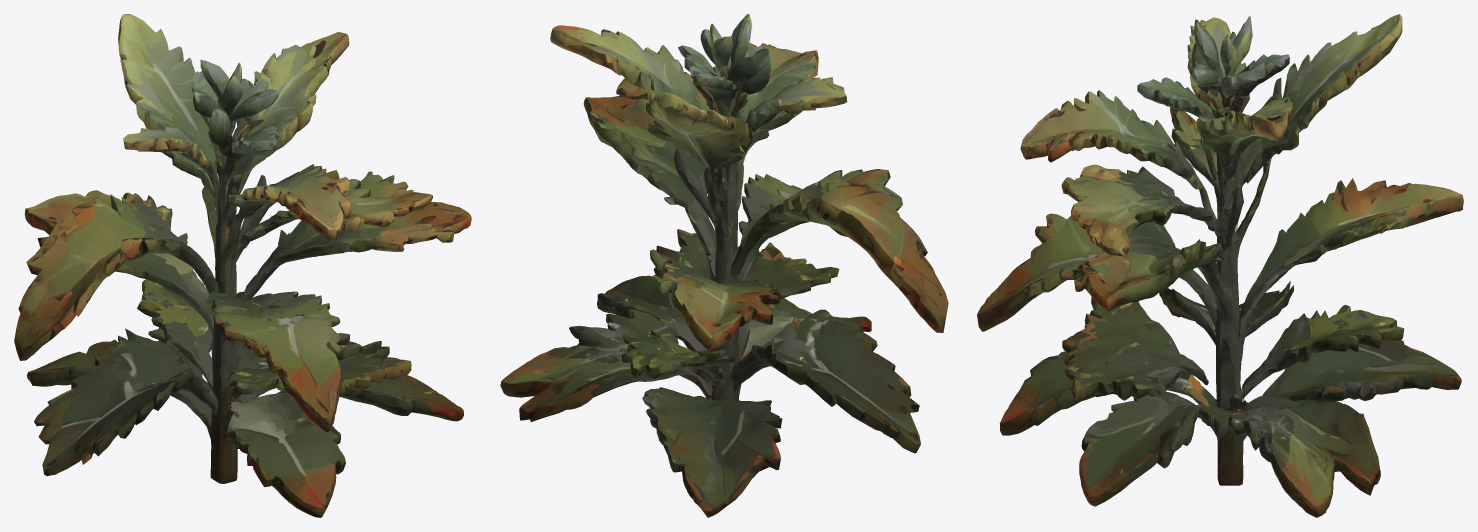
The model's file is herb_spirit_wild.glb.
3 views of the same model, side by side, from view 1: azimuth 30°, elevation 25°; view 2: azimuth 150°, elevation 25°; view 3: azimuth 270°, elevation 25° (orthographic). The views are drawn at different scales.
Parts seen in each view (by area): view 1: herb_spirit_wild; view 2: herb_spirit_wild; view 3: herb_spirit_wild.
Part boxes in pixels (bbox=[...]): herb_spirit_wild: bbox=[14, 14, 471, 517]; herb_spirit_wild: bbox=[500, 14, 948, 517]; herb_spirit_wild: bbox=[977, 14, 1463, 517].
Size of the model in its own units: 0.399 by 0.4 by 0.3848.
Materials: 1 (1 with a texture image).
